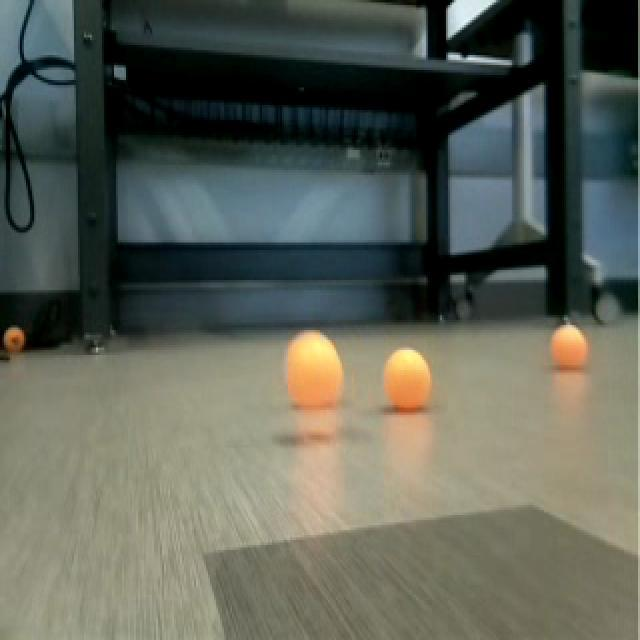oball: (281, 320, 349, 414), (381, 344, 434, 411), (550, 319, 592, 373), (6, 322, 32, 358)
